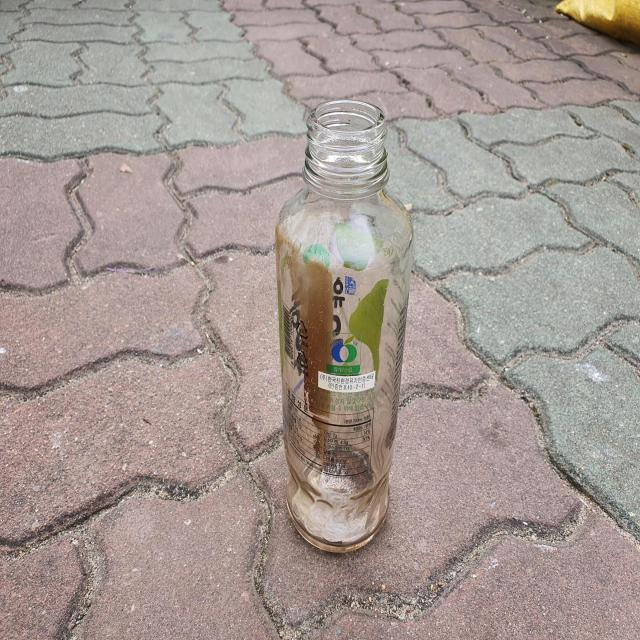glass: (276, 99, 413, 553)
